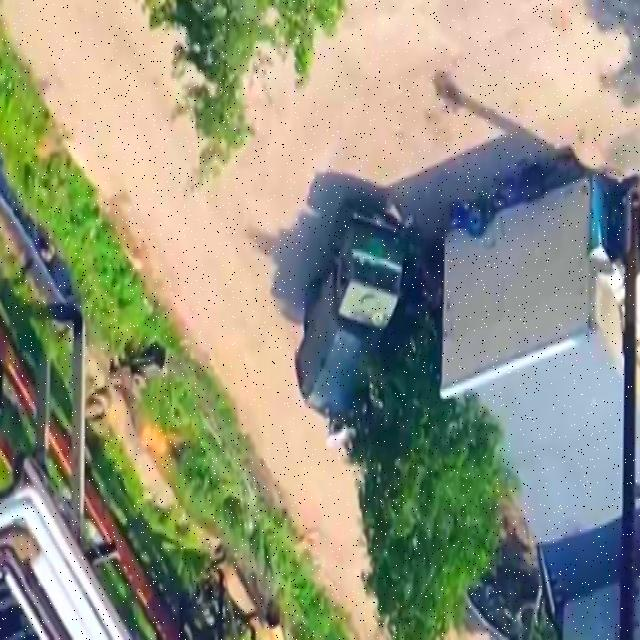TRUCK: (294, 202, 404, 421)
